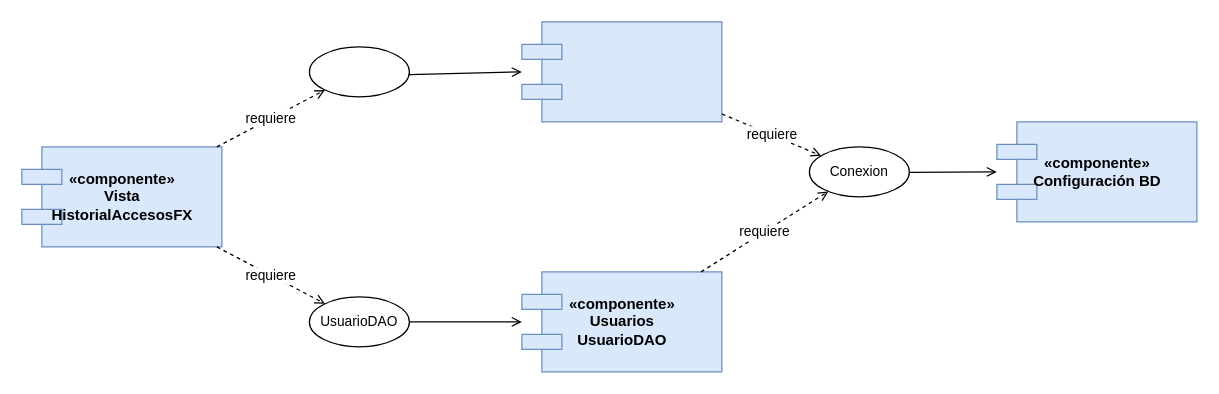
This 1219x394 diagram has some shape labels left out. The shapes that lost their labels are listed below. From the top down, each one's centre as x and y in pixels, then its label:
At point (358, 71): "Historial".
At point (621, 71): "«componente» Historial AccesoDAO".
